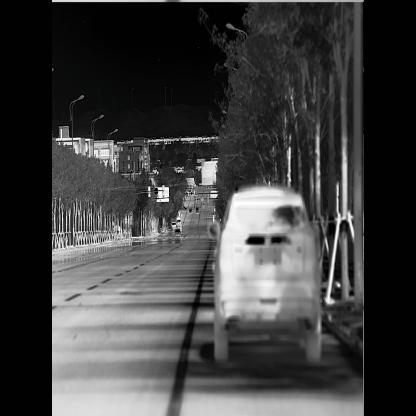car: (207, 185, 322, 365), (170, 217, 176, 231), (174, 229, 181, 240), (176, 217, 181, 229), (180, 205, 187, 211), (188, 186, 192, 196), (196, 206, 199, 214), (189, 208, 192, 214), (202, 202, 205, 208)
